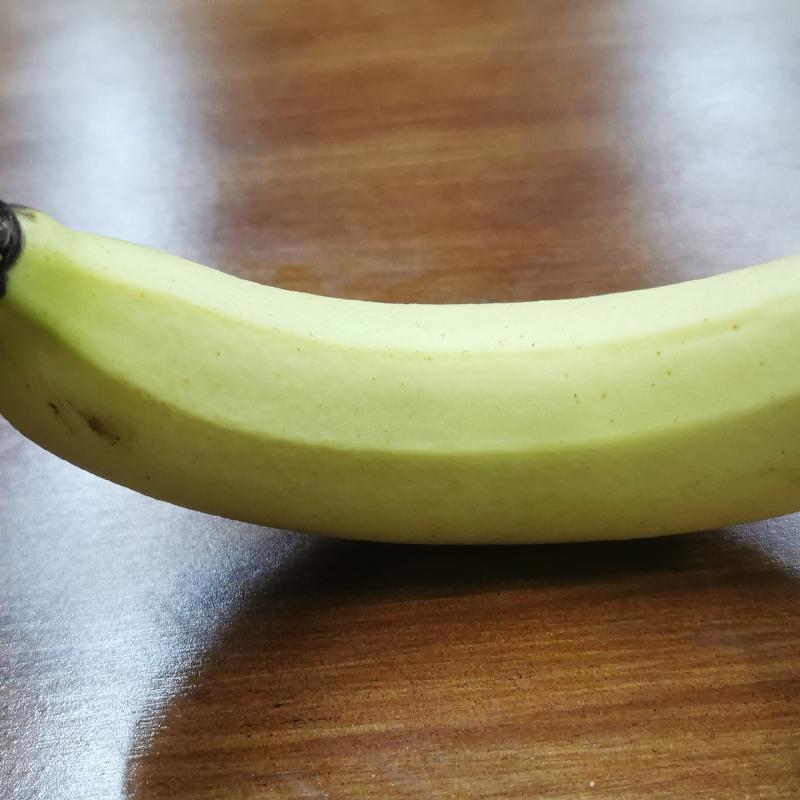bananas: (0, 188, 799, 550)
